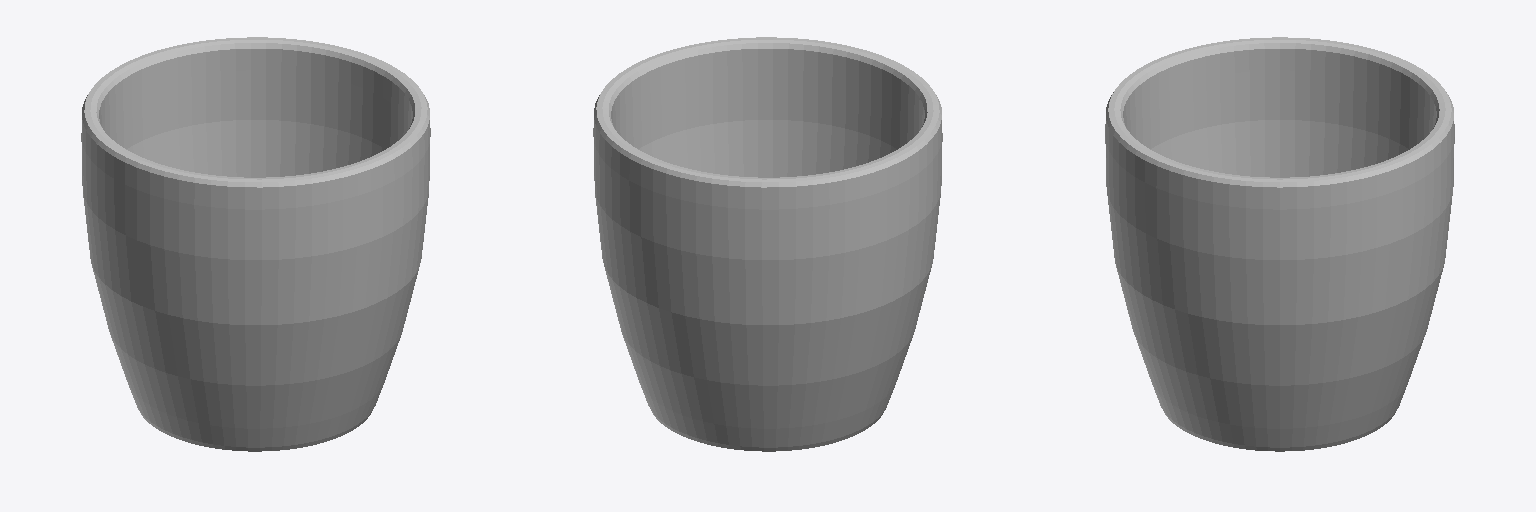
File: glass.obj
3 views of the same model, side by side, from view 1: azimuth 30°, elevation 25°; view 2: azimuth 150°, elevation 25°; view 3: azimuth 270°, elevation 25° (orthographic).
Visible parts, largest first — view 1: Cylinder.001; view 2: Cylinder.001; view 3: Cylinder.001.
Boxes of the visible parts, <box> form: Cylinder.001: <box>81,37,430,451</box>; Cylinder.001: <box>593,37,942,451</box>; Cylinder.001: <box>1105,37,1454,451</box>.
Size of the model in its own units: 1.23 by 1.14 by 1.23.